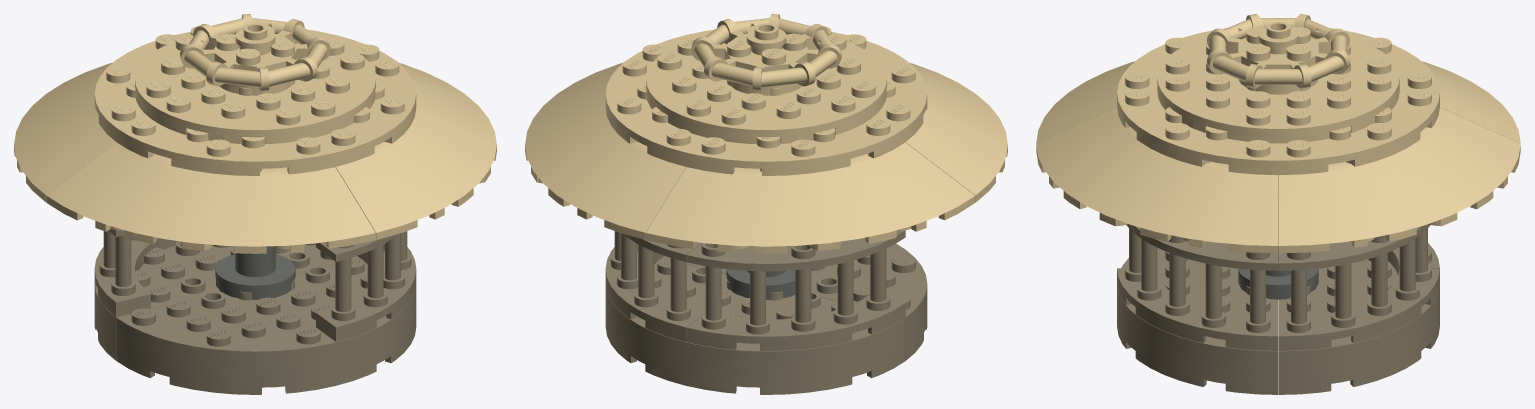
File: TikiHut.dae
The picture shows the model from 3 angles, left to right: view 1: azimuth 30°, elevation 25°; view 2: azimuth 150°, elevation 25°; view 3: azimuth 270°, elevation 25°; orthographic projection.
Visible parts, largest first — view 1: Inner-Node-TikiHut_dot_io-12, Inner-Node-TikiHut_dot_io-1, Inner-Node-TikiHut_dot_io-5, Inner-Node-TikiHut_dot_io-4, Inner-Node-TikiHut_dot_io-2, Inner-Node-TikiHut_dot_io-0, Inner-Node-TikiHut_dot_io-6, Inner-Node-TikiHut_dot_io-11, Inner-Node-TikiHut_dot_io-13, Inner-Node-TikiHut_dot_io-15, Inner-Node-TikiHut_dot_io-10, Inner-Node-TikiHut_dot_io-8 (+2 smaller); view 2: Inner-Node-TikiHut_dot_io-0, Inner-Node-TikiHut_dot_io-13, Inner-Node-TikiHut_dot_io-5, Inner-Node-TikiHut_dot_io-4, Inner-Node-TikiHut_dot_io-15, Inner-Node-TikiHut_dot_io-3, Inner-Node-TikiHut_dot_io-1, Inner-Node-TikiHut_dot_io-6, Inner-Node-TikiHut_dot_io-14, Inner-Node-TikiHut_dot_io-12, Inner-Node-TikiHut_dot_io-10, Inner-Node-TikiHut_dot_io-8 (+2 smaller); view 3: Inner-Node-TikiHut_dot_io-2, Inner-Node-TikiHut_dot_io-3, Inner-Node-TikiHut_dot_io-5, Inner-Node-TikiHut_dot_io-4, Inner-Node-TikiHut_dot_io-11, Inner-Node-TikiHut_dot_io-14, Inner-Node-TikiHut_dot_io-12, Inner-Node-TikiHut_dot_io-13, Inner-Node-TikiHut_dot_io-6, Inner-Node-TikiHut_dot_io-0, Inner-Node-TikiHut_dot_io-1, Inner-Node-TikiHut_dot_io-10 (+3 smaller).
Boxes of the visible parts, box(x1,y1,x2,y2) form: Inner-Node-TikiHut_dot_io-12: box(116, 257, 416, 394); Inner-Node-TikiHut_dot_io-1: box(46, 142, 375, 253); Inner-Node-TikiHut_dot_io-5: box(94, 26, 416, 175); Inner-Node-TikiHut_dot_io-4: box(135, 34, 375, 143); Inner-Node-TikiHut_dot_io-2: box(335, 79, 496, 239); Inner-Node-TikiHut_dot_io-0: box(14, 62, 116, 202); Inner-Node-TikiHut_dot_io-6: box(180, 14, 330, 91); Inner-Node-TikiHut_dot_io-11: box(316, 231, 416, 341); Inner-Node-TikiHut_dot_io-13: box(94, 241, 359, 360); Inner-Node-TikiHut_dot_io-15: box(94, 229, 177, 316); Inner-Node-TikiHut_dot_io-10: box(215, 246, 295, 299); Inner-Node-TikiHut_dot_io-8: box(235, 23, 275, 55); Inner-Node-TikiHut_dot_io-0: box(646, 142, 975, 253); Inner-Node-TikiHut_dot_io-13: box(605, 257, 905, 394); Inner-Node-TikiHut_dot_io-5: box(605, 26, 927, 175); Inner-Node-TikiHut_dot_io-4: box(646, 34, 886, 143); Inner-Node-TikiHut_dot_io-15: box(686, 230, 905, 351); Inner-Node-TikiHut_dot_io-3: box(525, 79, 686, 239); Inner-Node-TikiHut_dot_io-1: box(905, 62, 1007, 202); Inner-Node-TikiHut_dot_io-6: box(691, 14, 841, 91); Inner-Node-TikiHut_dot_io-14: box(605, 231, 705, 341); Inner-Node-TikiHut_dot_io-12: box(662, 243, 927, 360); Inner-Node-TikiHut_dot_io-10: box(726, 246, 795, 299); Inner-Node-TikiHut_dot_io-8: box(746, 23, 786, 55); Inner-Node-TikiHut_dot_io-2: box(1036, 107, 1278, 253); Inner-Node-TikiHut_dot_io-3: box(1278, 107, 1520, 253); Inner-Node-TikiHut_dot_io-5: box(1117, 28, 1439, 175); Inner-Node-TikiHut_dot_io-4: box(1157, 36, 1399, 143); Inner-Node-TikiHut_dot_io-11: box(1117, 224, 1278, 350); Inner-Node-TikiHut_dot_io-14: box(1278, 224, 1439, 350); Inner-Node-TikiHut_dot_io-12: box(1117, 247, 1278, 394); Inner-Node-TikiHut_dot_io-13: box(1278, 254, 1439, 394); Inner-Node-TikiHut_dot_io-6: box(1206, 14, 1350, 88); Inner-Node-TikiHut_dot_io-0: box(1421, 61, 1520, 143); Inner-Node-TikiHut_dot_io-1: box(1036, 61, 1135, 143); Inner-Node-TikiHut_dot_io-10: box(1238, 212, 1318, 299).
Size of the model in its own units: 240 by 164 by 240.
